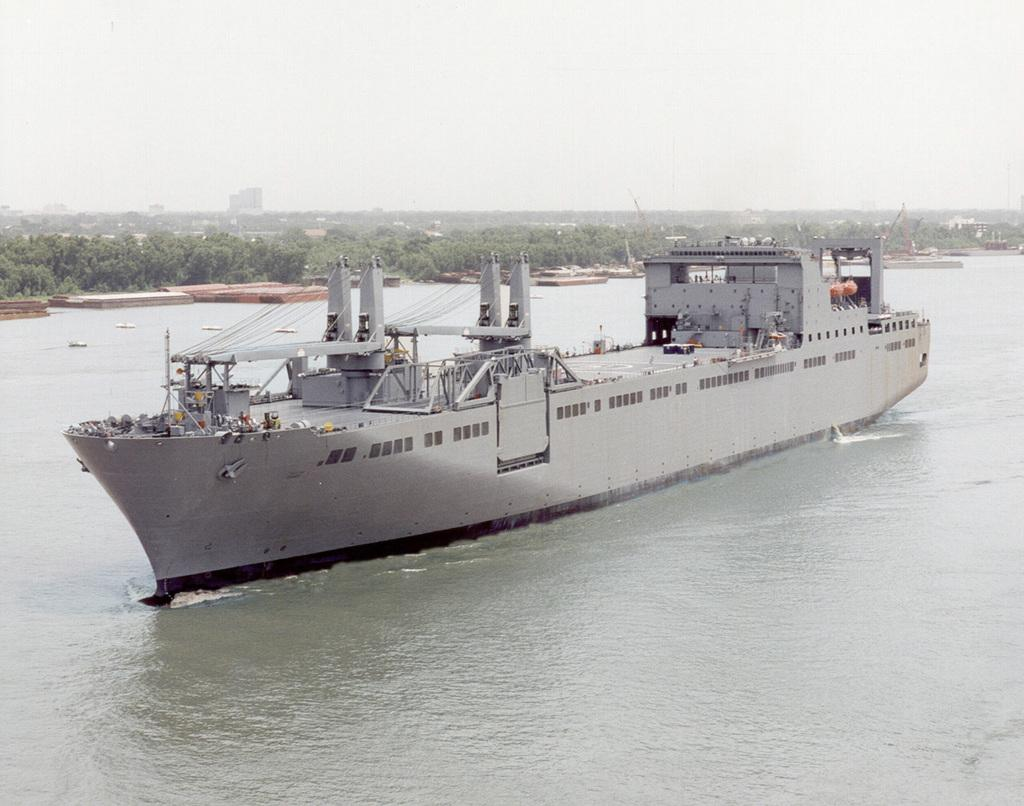Warship: (65, 230, 933, 608)
